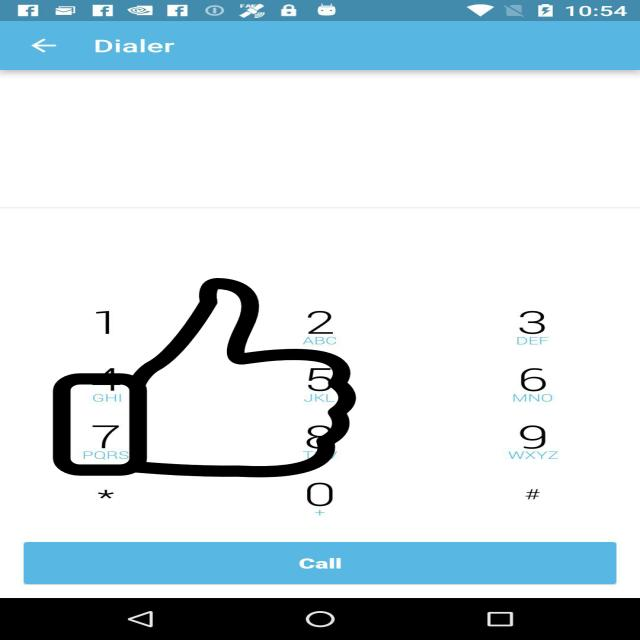privacy zuckering: (49, 278, 360, 477)
